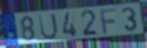2: (80, 9, 100, 38)
3: (121, 6, 139, 32)
4: (62, 11, 78, 39)
8: (20, 15, 37, 42)
F: (99, 8, 118, 35)
U: (37, 12, 60, 41)
